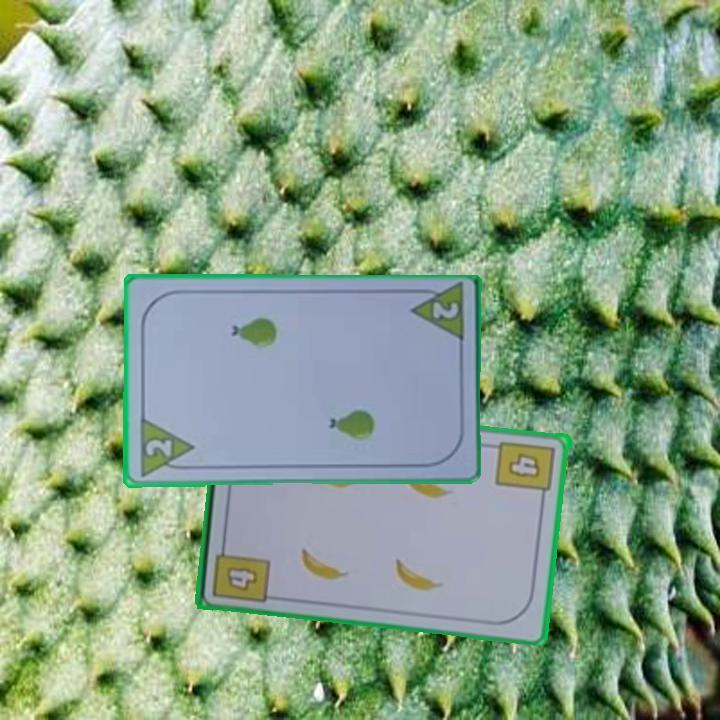2p: (136, 415, 196, 480), (429, 297, 462, 322)
4b: (493, 437, 559, 504), (223, 562, 262, 594)
